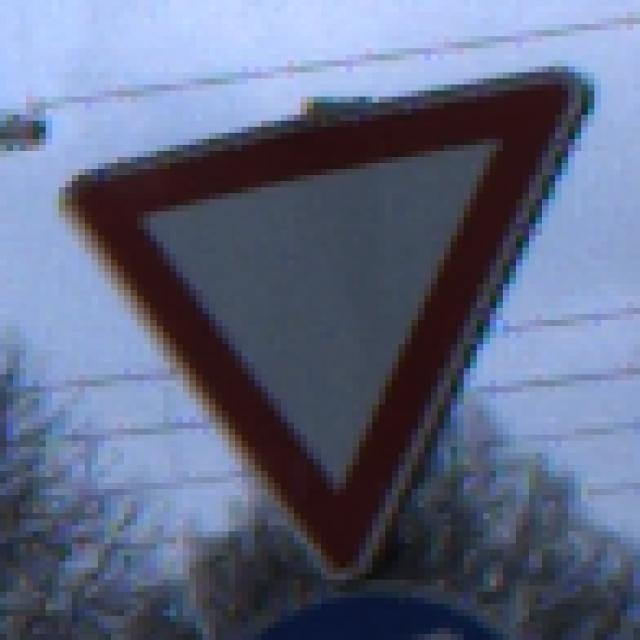give way: (62, 62, 585, 580)
